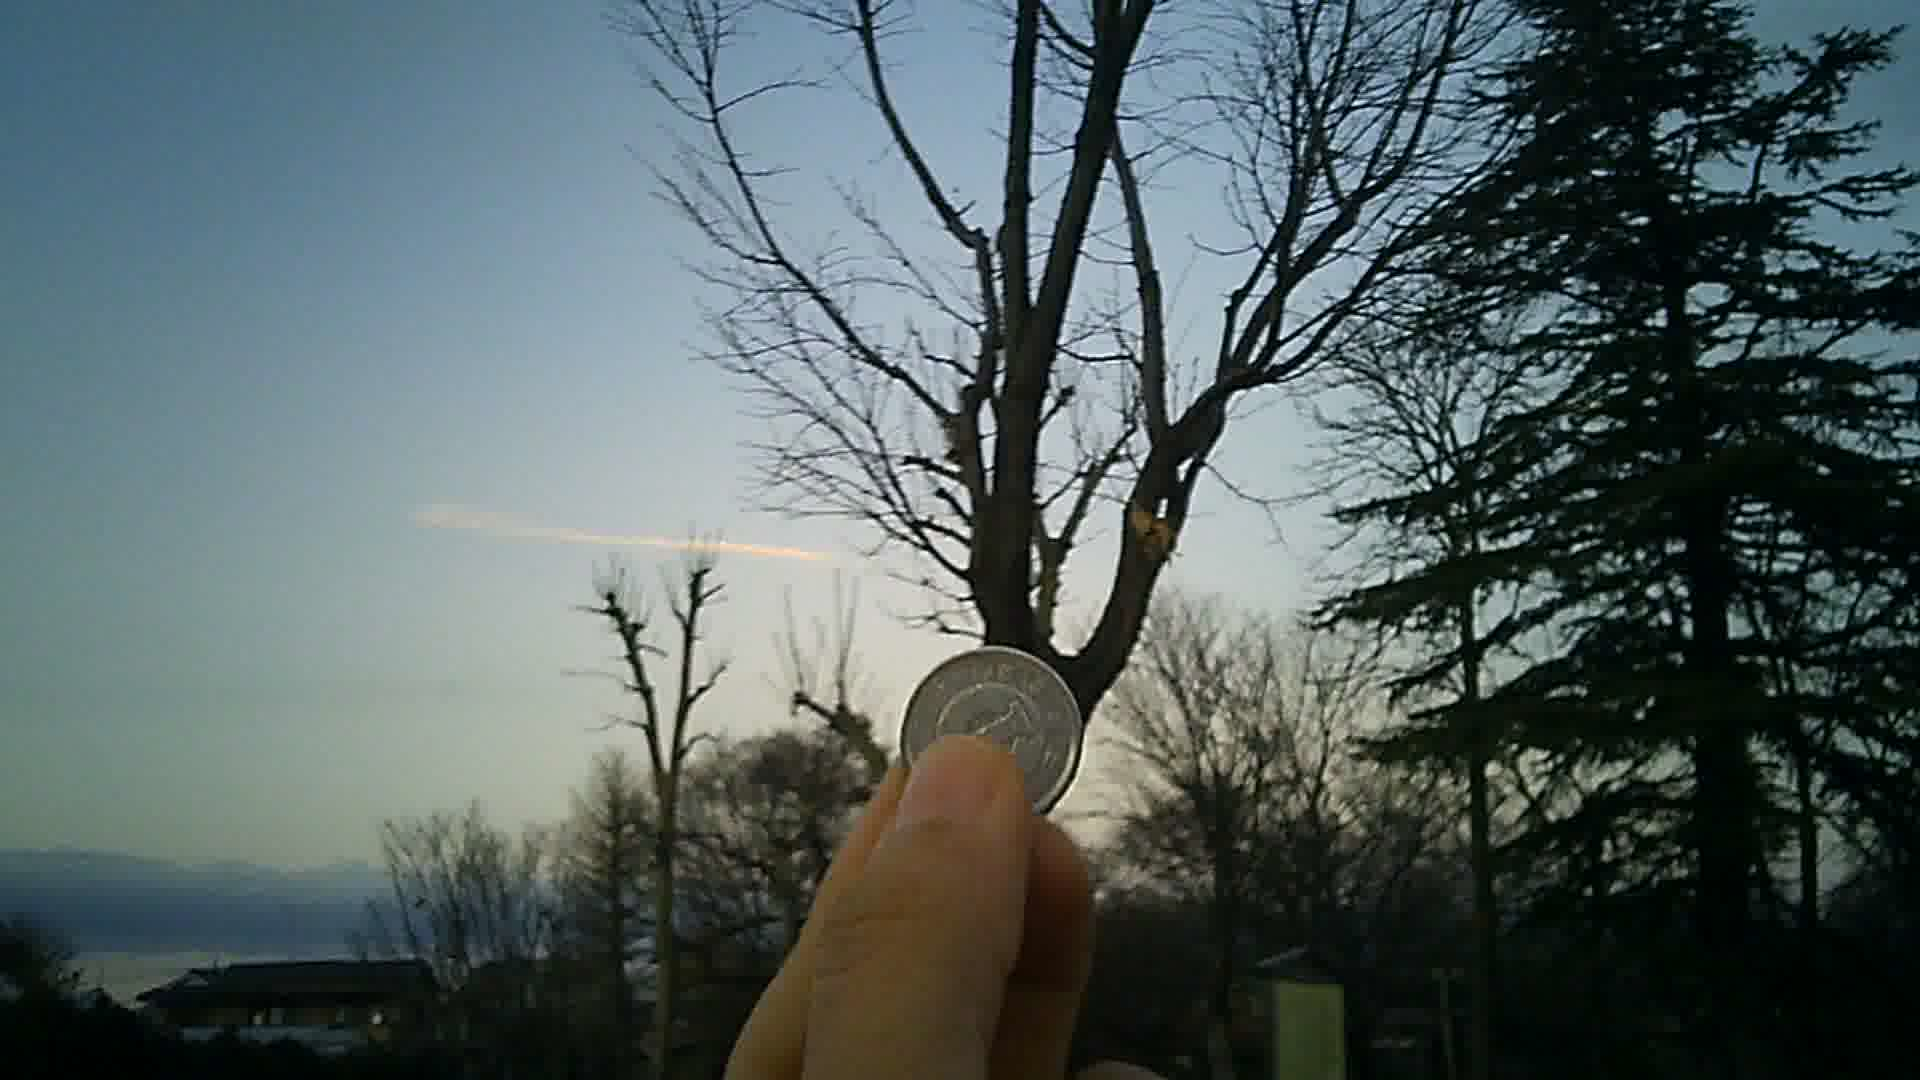1 Yen: (901, 645, 1088, 819)
